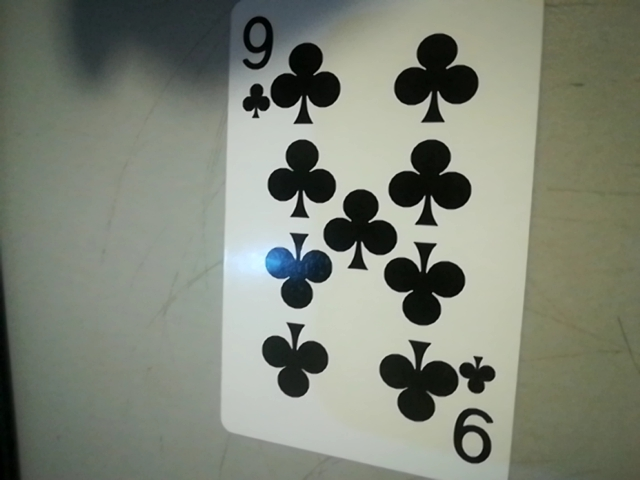mh 9: (447, 349, 511, 475), (225, 9, 282, 122)
